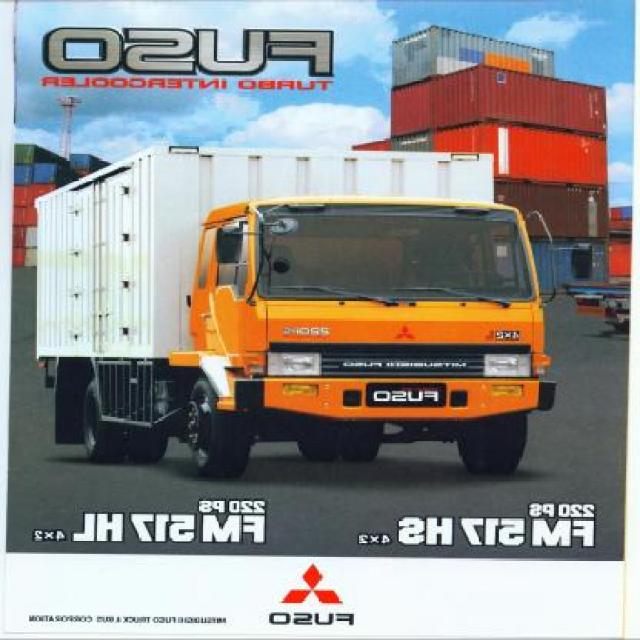truck: (34, 150, 591, 479)
